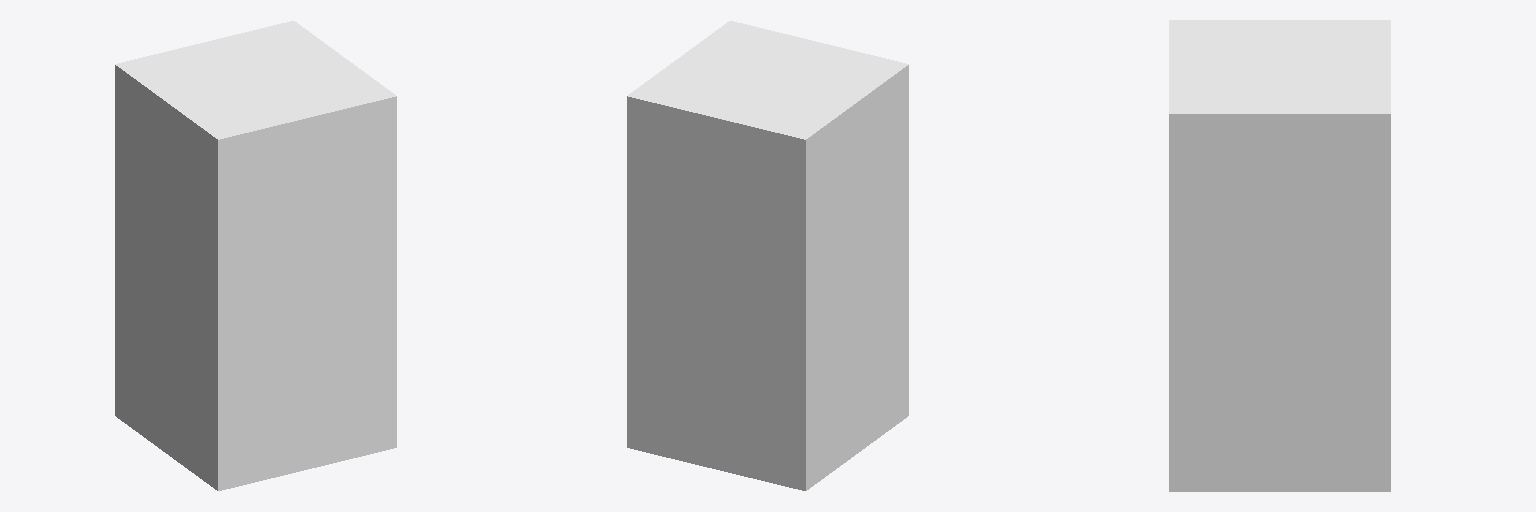
robot.urdf — base_cube:
<?xml version="1.0" ?>
<robot name="base_cube">
  <link name="cube_link">
    <inertial>
      <origin xyz="0 0 0"/>
      <mass value="50.0"/>
      <inertia ixx="1" ixy="0" ixz="0" iyy="1" iyz="0" izz="1"/>
    </inertial>
    <visual>
      <origin xyz="0 0 0"/>
      <geometry><box size="0.4 0.4 0.75"/></geometry>
      <material name="white"><color rgba="1 1 1 1"/></material>
    </visual>
    <collision>
      <origin xyz="0 0 0"/>
      <geometry><box size="0.4 0.4 0.75"/></geometry>
    </collision>
  </link>
</robot>

--- What the picture shows (computed from the rendered views, not written in the file) ---
The picture shows the robot from 3 angles, left to right: view 1: azimuth 30°, elevation 25°; view 2: azimuth 150°, elevation 25°; view 3: azimuth 270°, elevation 25°; orthographic projection.
Model base_cube with 1 links and 0 joints (none), rooted at cube_link, posed every joint at zero.
Links seen in each view (by area): view 1: cube_link; view 2: cube_link; view 3: cube_link.
Boxes of the visible links, x1=… form: cube_link: x1=115, y1=21, x2=396, y2=490; cube_link: x1=627, y1=21, x2=908, y2=490; cube_link: x1=1169, y1=20, x2=1390, y2=491.
Bounding box of the posed robot: 0.4 × 0.4 × 0.75 m (x, y, z).
Geometry: primitives only (box / cylinder / sphere), no mesh files.
